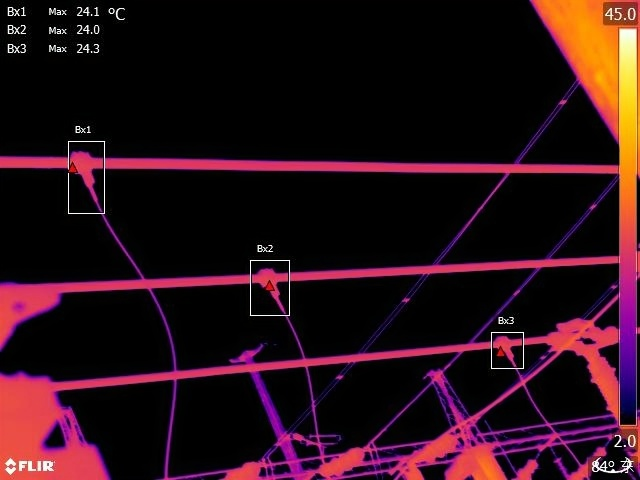clamp: (252, 264, 287, 303), (68, 145, 100, 187), (490, 333, 515, 361)
post insulator: (589, 355, 640, 443)
